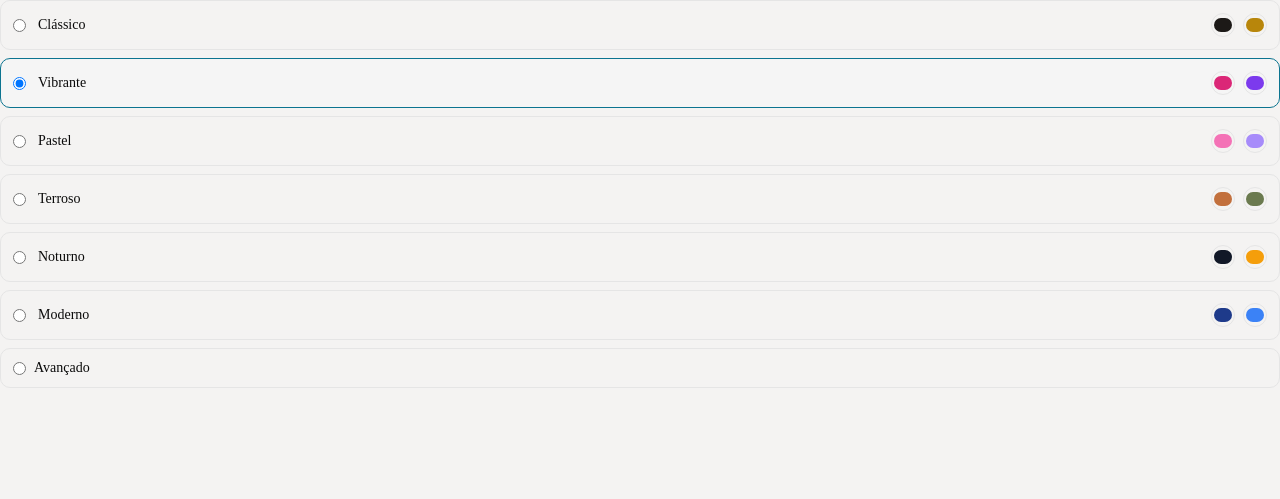
Scenario: ColorPalettePicker › reveals editable custom color inputs when "Avançado" is selected
Click the radio button labelled "Avançado" at (20, 368), box [13,362,26,374]
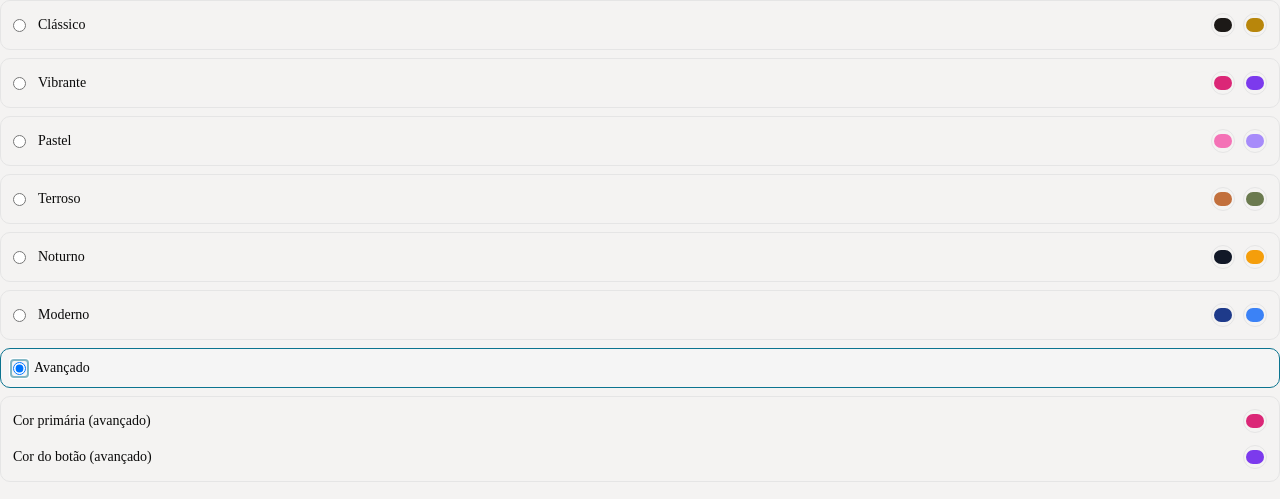
Expected: the colour field labelled "Cor primária (avançado)" is shown, [1243,409,1267,433]
